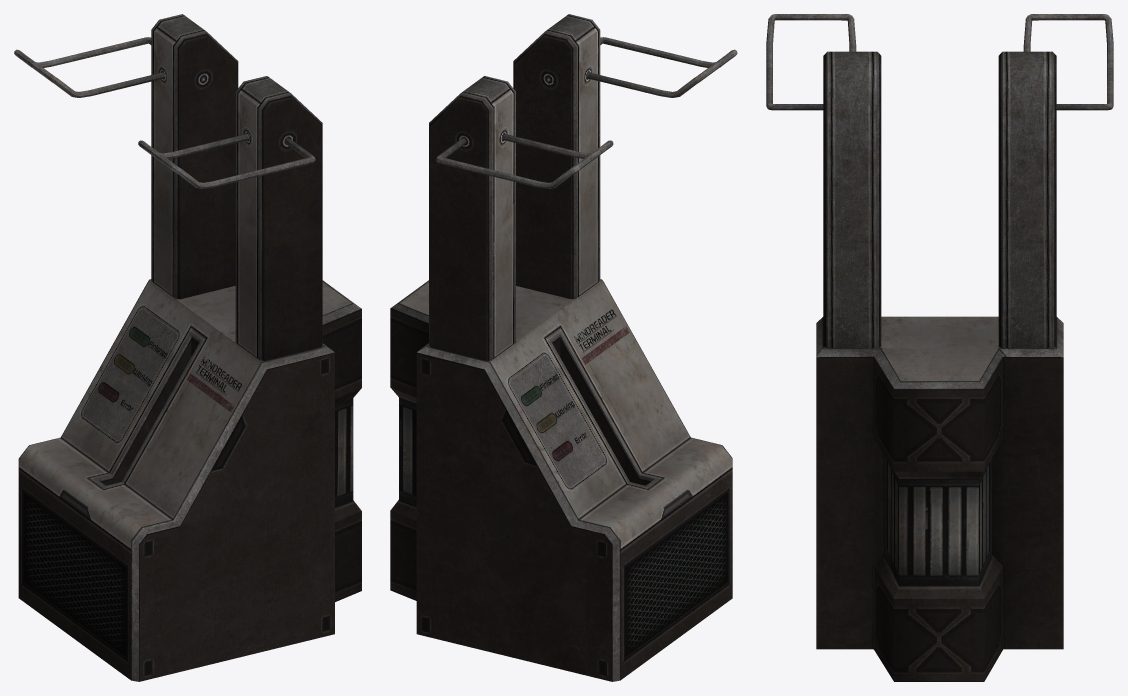
Rendered from 03_02_robot_mindreader_device.dae.
The picture shows the model from 3 angles, left to right: view 1: azimuth 30°, elevation 25°; view 2: azimuth 150°, elevation 25°; view 3: azimuth 270°, elevation 25°; orthographic projection. The views are drawn at different scales.
Parts seen in each view (by area): view 1: polySurface387; view 2: polySurface387; view 3: polySurface387.
Part boxes in pixels (box(x1,y1,x2,y2)): polySurface387: box(14, 14, 361, 681); polySurface387: box(390, 14, 737, 681); polySurface387: box(766, 14, 1113, 681).
Size of the model in its own units: 0.0672 by 0.1325 by 0.0737.
